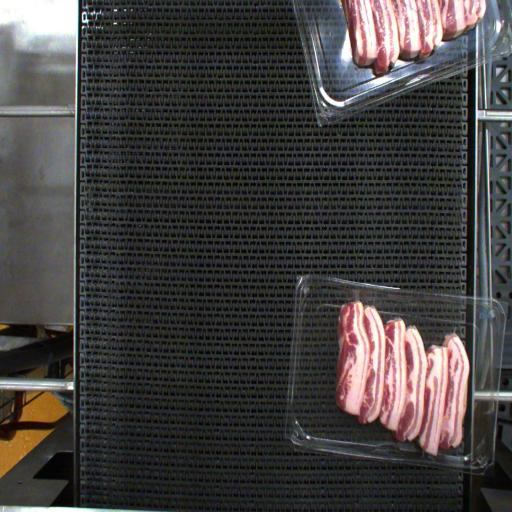packaging-error: (352, 284, 364, 306)
